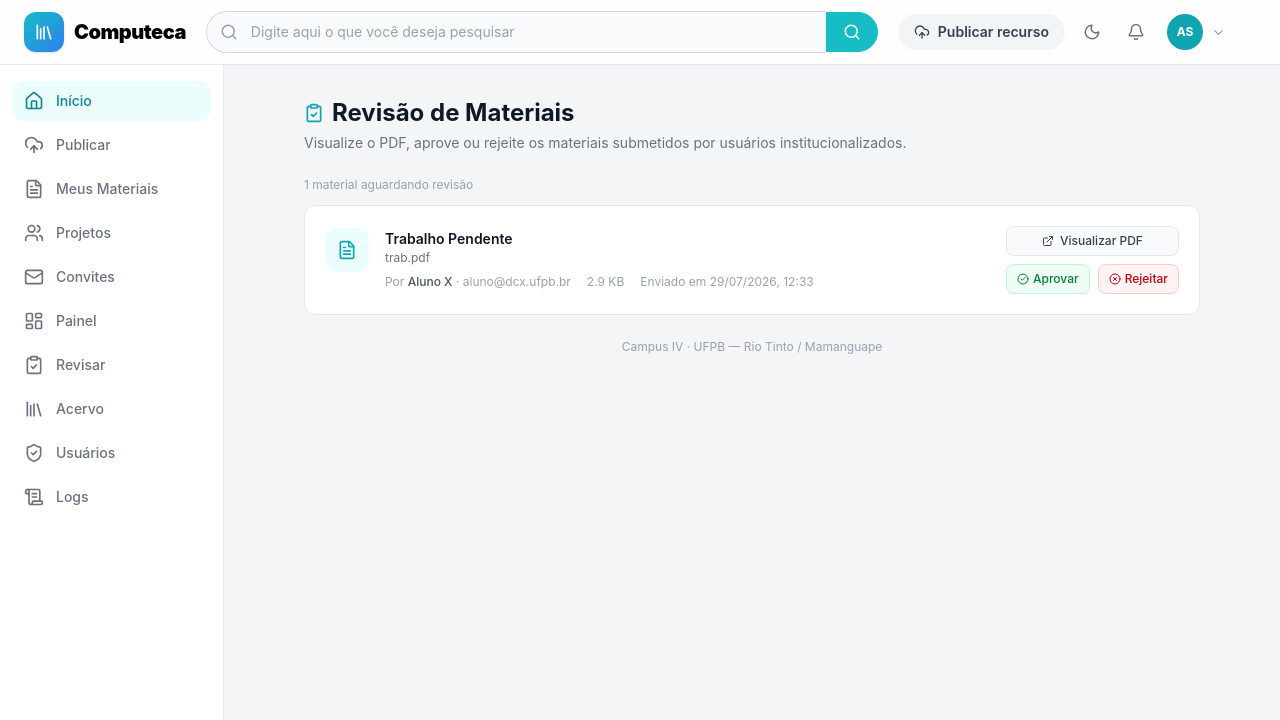
Test: ProfessorReviewPage › rejeita um material com confirmação
Click the button "Rejeitar": (1138, 279) [1098,264,1179,294]
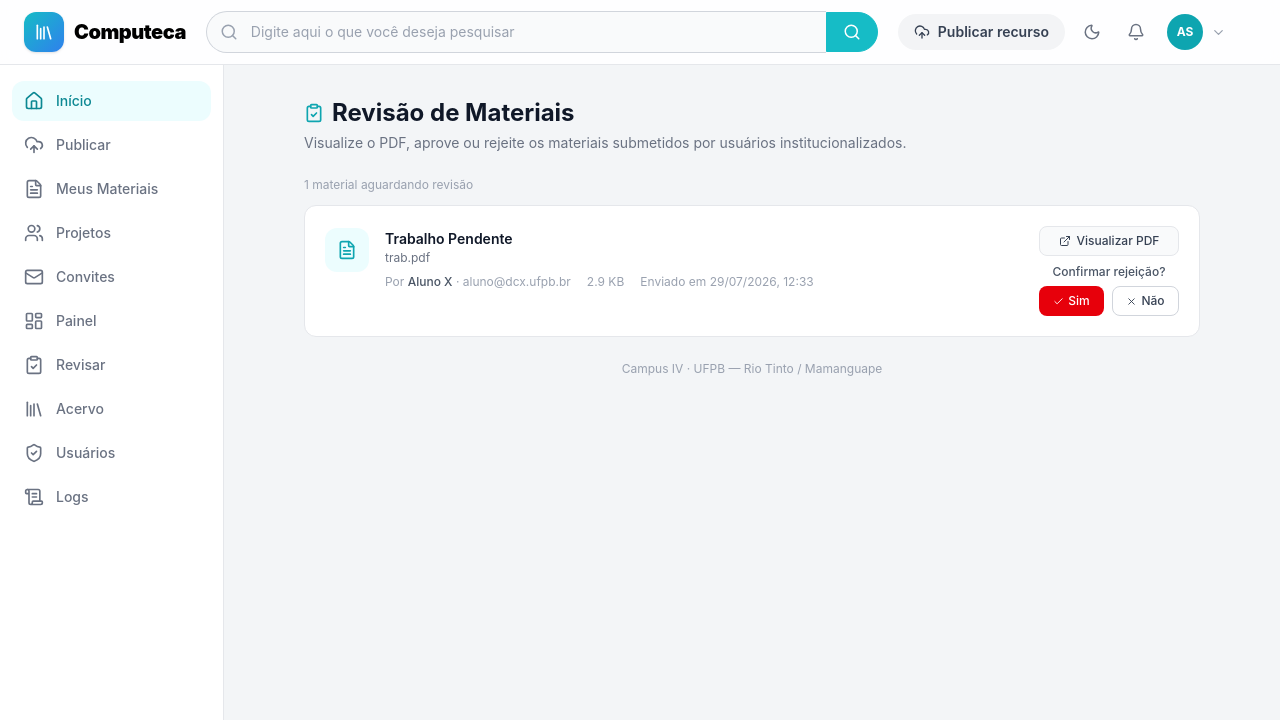
Click the button "Sim": (1072, 301) [1039,286,1104,316]
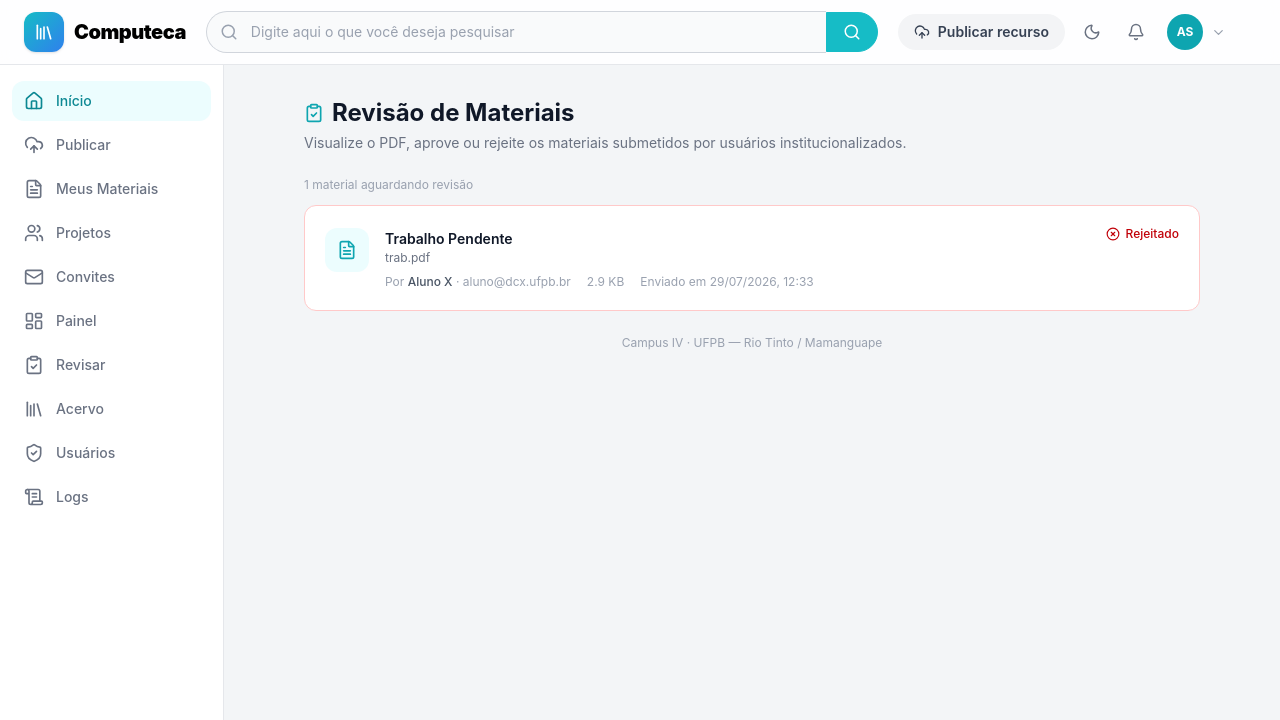
Expected: the text "Rejeitado" is shown, [1106,226,1179,242]
